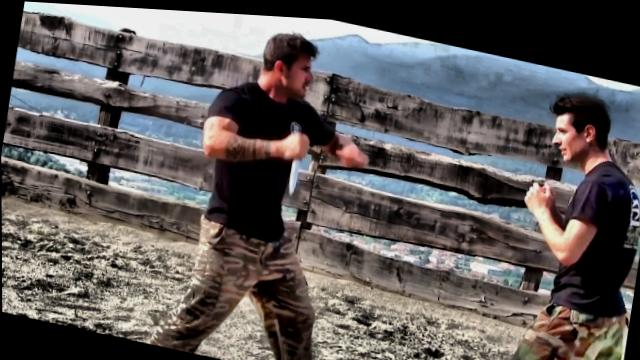knife: (279, 123, 311, 195)
